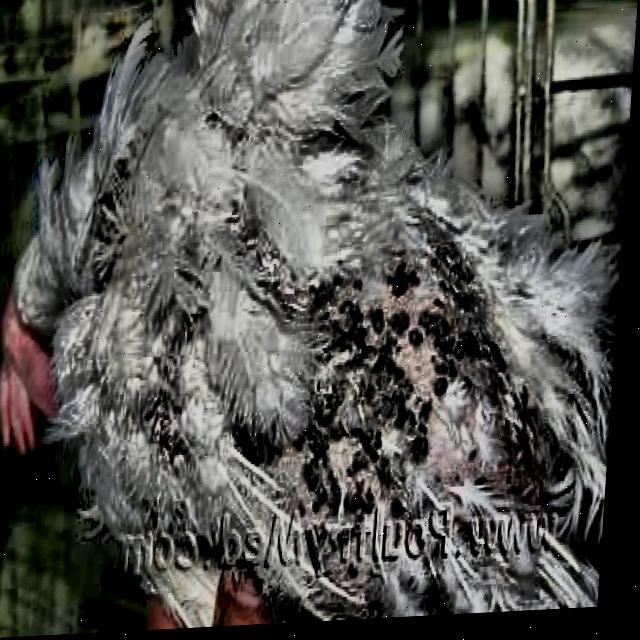Fowlpox: (293, 250, 498, 588)
